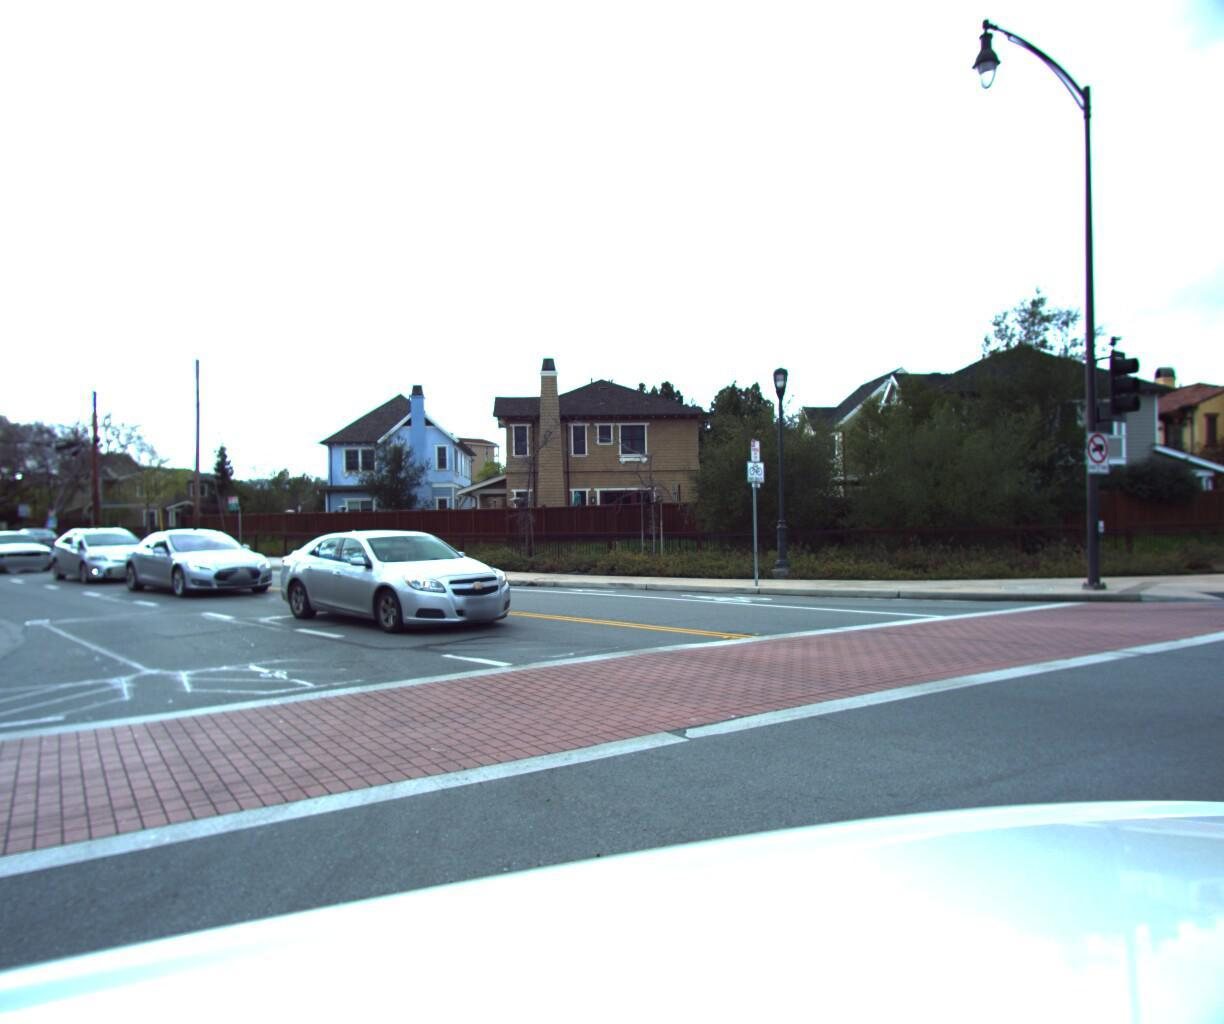car: (259, 525, 535, 639), (115, 527, 281, 600), (43, 526, 167, 585), (2, 522, 66, 558)
